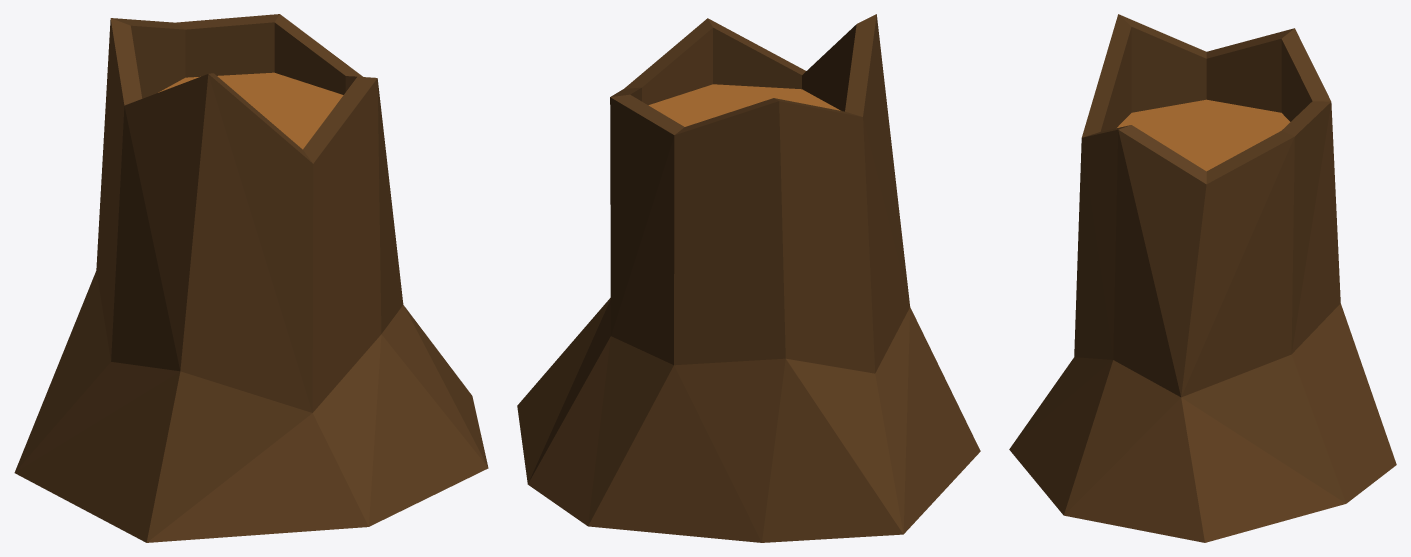
The model's file is Trunk_Base.fbx.
3 views of the same model, side by side, from view 1: azimuth 30°, elevation 25°; view 2: azimuth 150°, elevation 25°; view 3: azimuth 270°, elevation 25° (orthographic). The views are drawn at different scales.
Visible parts, largest first — view 1: Trunk_Base; view 2: Trunk_Base; view 3: Trunk_Base.
Boxes of the visible parts, bbox=[...] form: Trunk_Base: bbox=[14, 14, 488, 542]; Trunk_Base: bbox=[517, 14, 980, 542]; Trunk_Base: bbox=[1009, 14, 1396, 542].
Size of the model in its own units: 229 by 225 by 202.
